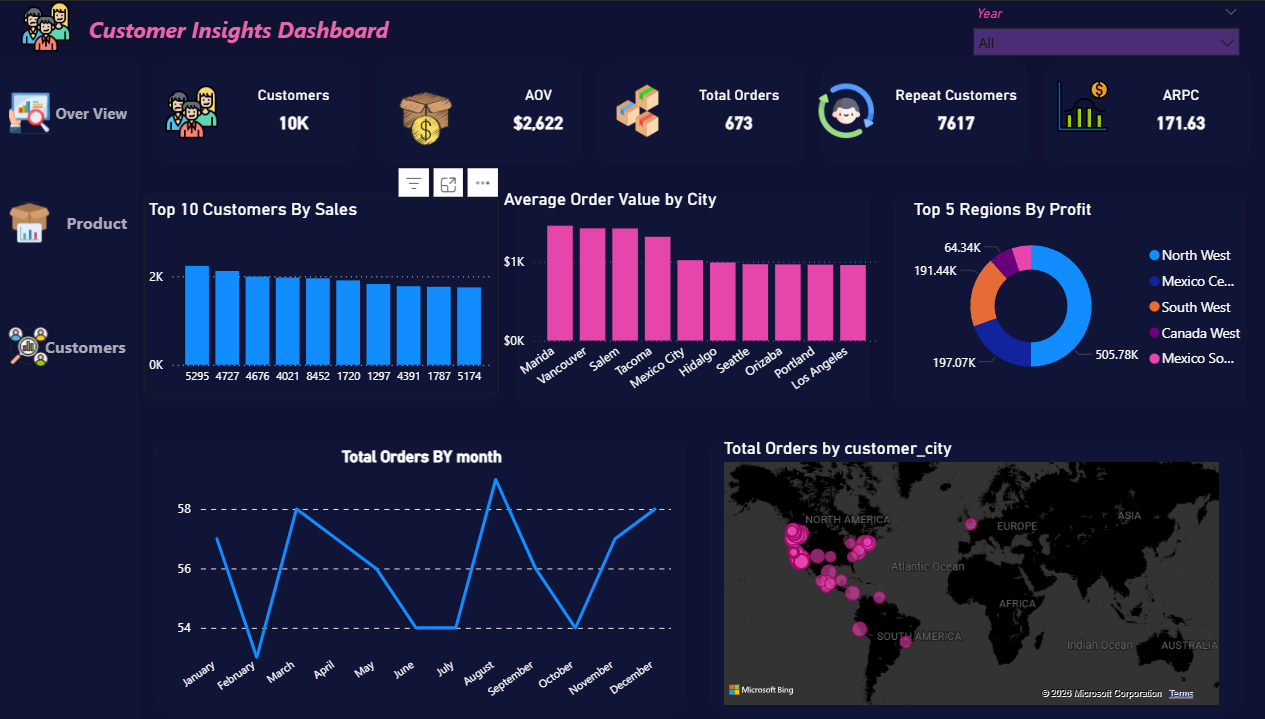

The dashboard page shown, as its layout file describes it:
{"tool":"powerbi","page":{"name":"Customers Analysis","canvas":[1280,720],"ordinal":2},"visuals":[{"type":"actionButton","box":[9.8,62.6,123.9,94.5],"z":0},{"type":"actionButton","box":[10,170,123.8,93.8],"z":1000},{"type":"actionButton","box":[8.8,292.5,123.8,93.8],"z":2000},{"type":"textbox","box":[87.1,8.6,336.2,50.3],"z":3000},{"type":"image","box":[0,0,100,50],"z":4000},{"type":"card","title":"Customers","fields":{"Values":["Dax_Measure.Customers"]},"box":[230.5,83.7,124.9,57.6],"z":5000},{"type":"image","box":[156.2,82.5,73.8,53.8],"z":6000},{"type":"card","title":"AOV","fields":{"Values":["Dax_Measure.AOV"]},"box":[470.7,83.7,124.9,57.6],"z":7000},{"type":"image","box":[387,87.8,72.7,53.5],"z":8000},{"type":"card","title":"Total Orders","fields":{"Values":["Dax_Measure.Total Orders"]},"box":[668.3,83.7,123.5,57.6],"z":9000},{"type":"image","box":[593.9,81,73.6,54],"z":10000},{"type":"card","title":"Repeat Customers","fields":{"Values":["Dax_Measure.Repeat Customers"]},"box":[872.4,83.4,142.3,57.7],"z":11000},{"type":"image","box":[798.8,81,73.6,54],"z":12000},{"type":"columnChart","title":"Top 10 Customers By Sales","fields":{"Category":["Customers.customer_id"],"Y":["Dax_Measure.Total Sales"]},"box":[146,193.9,348.5,191.4],"z":13000},{"type":"map","fields":{"Category":["Customers.customer_city"],"Size":["Dax_Measure.Total Orders"]},"box":[710.4,428.2,495.7,267.5],"z":14000},{"type":"donutChart","title":"Top 5 Regions By Profit","fields":{"Category":["Region.sales_region"],"Y":["Dax_Measure.Total Profit"]},"box":[897.4,193.5,340.3,192.1],"z":15000},{"type":"card","title":"ARPC","fields":{"Values":["Dax_Measure.Average Revenue per Customer"]},"box":[1090.9,83.7,146.8,57.6],"z":16000},{"type":"image","box":[1037.4,76.8,61.7,52.1],"z":17000},{"type":"slicer","fields":{"Values":["Dim_Date.Year"]},"box":[949.7,0,282.2,77.3],"z":18000},{"type":"lineChart","title":"Total Orders BY month","fields":{"Category":["Dim_Date.MonthName"],"Y":["Dax_Measure.Total Orders"]},"box":[169.3,438,499.4,257.7],"z":19000},{"type":"clusteredColumnChart","title":"Average Order Value by City","fields":{"Category":["Region.sales_district"],"Y":["Dax_Measure.AOV"]},"box":[494,183.9,378.7,215.4],"z":20000}]}

Visuals, with their boxes in screenshot pixels (x1, y1, x2, y2), scaled from the page's 1280x720 canvas onto the 1265x719 screenshot:
actionButton: (x1=10, y1=63, x2=132, y2=157)
actionButton: (x1=10, y1=170, x2=132, y2=263)
actionButton: (x1=9, y1=292, x2=131, y2=386)
textbox: (x1=86, y1=9, x2=418, y2=59)
image: (x1=0, y1=0, x2=99, y2=50)
"Customers" card: (x1=228, y1=84, x2=351, y2=141)
image: (x1=154, y1=82, x2=227, y2=136)
"AOV" card: (x1=465, y1=84, x2=589, y2=141)
image: (x1=382, y1=88, x2=454, y2=141)
"Total Orders" card: (x1=660, y1=84, x2=783, y2=141)
image: (x1=587, y1=81, x2=660, y2=135)
"Repeat Customers" card: (x1=862, y1=83, x2=1003, y2=141)
image: (x1=789, y1=81, x2=862, y2=135)
"Top 10 Customers By Sales" columnChart: (x1=144, y1=194, x2=489, y2=385)
map - Customers.customer_city x Dax_Measure.Total Orders: (x1=702, y1=428, x2=1192, y2=695)
"Top 5 Regions By Profit" donutChart: (x1=887, y1=193, x2=1223, y2=385)
"ARPC" card: (x1=1078, y1=84, x2=1223, y2=141)
image: (x1=1025, y1=77, x2=1086, y2=129)
slicer - Dim_Date.Year: (x1=939, y1=0, x2=1217, y2=77)
"Total Orders BY month" lineChart: (x1=167, y1=437, x2=661, y2=695)
"Average Order Value by City" clusteredColumnChart: (x1=488, y1=184, x2=862, y2=399)
